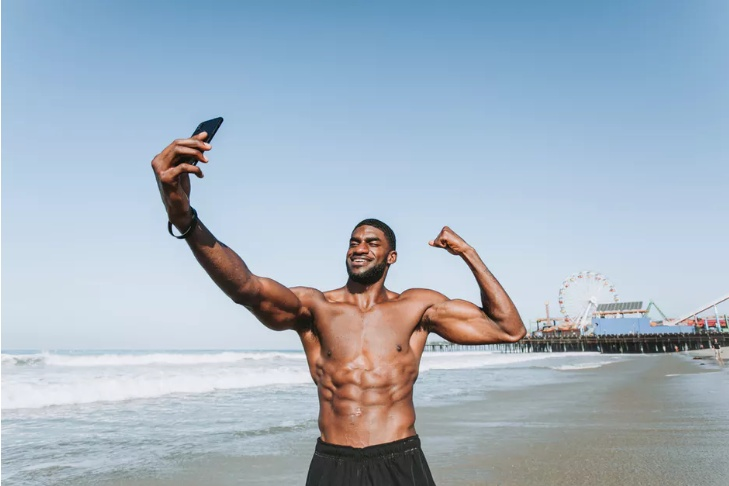face: (346, 225, 391, 278)
